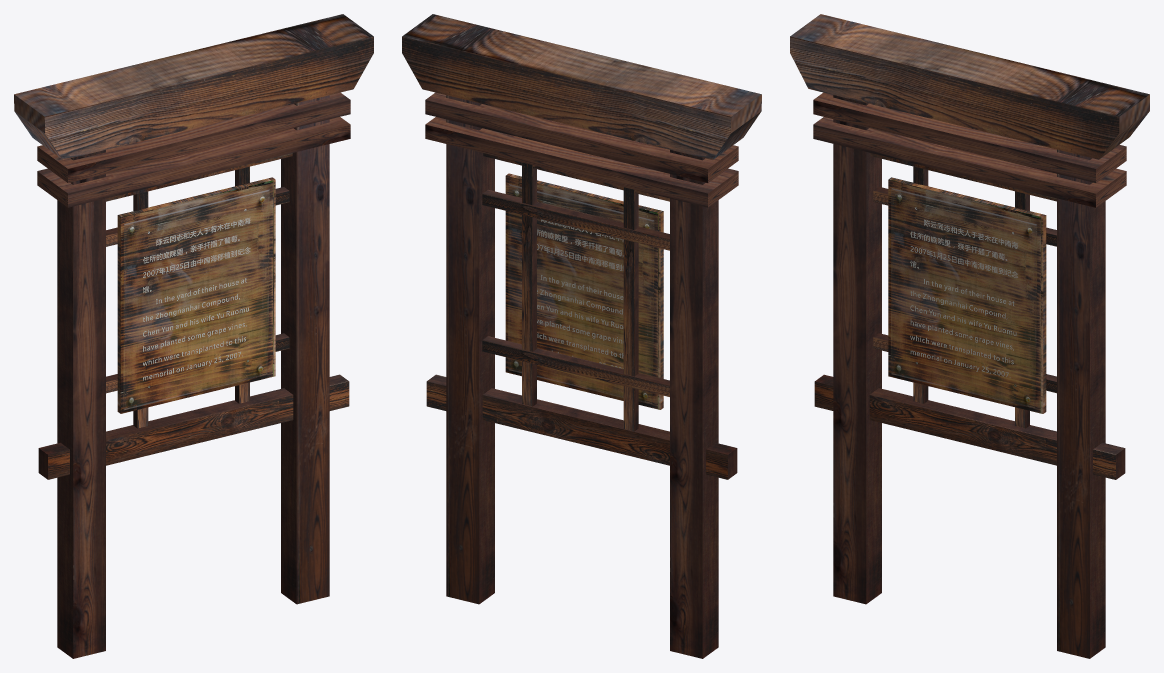
The model's file is Prop_RoadGuide10.FBX.
3 renders of one model, left to right at view 1: azimuth 30°, elevation 25°; view 2: azimuth 150°, elevation 25°; view 3: azimuth 330°, elevation 25°, orthographic.
Parts seen in each view (by area): view 1: Prop_RoadGuide10; view 2: Prop_RoadGuide10; view 3: Prop_RoadGuide10.
Part boxes in pixels (x1,y1,x2,y2): Prop_RoadGuide10: (14,14,373,658); Prop_RoadGuide10: (402,14,761,658); Prop_RoadGuide10: (790,14,1149,658).
Bounding box in the file's own units: 115 × 18.66 × 186.
